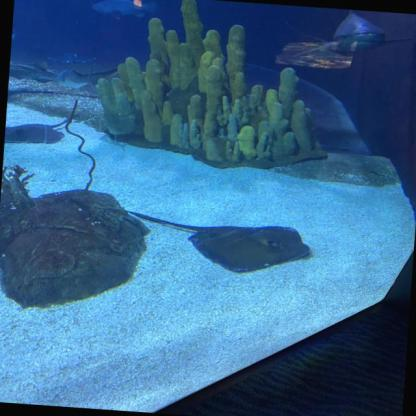fish: (90, 0, 158, 21)
shark: (306, 7, 412, 57)
stingray: (186, 219, 314, 277), (5, 121, 67, 146)
